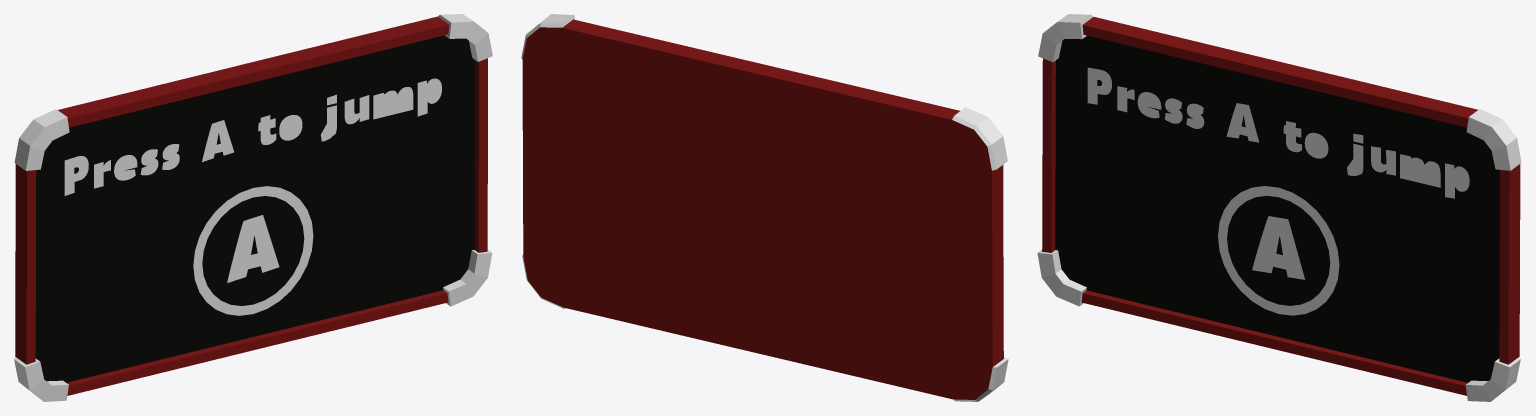
The model's file is Tuto1-XB.FBX.
3 renders of one model, left to right at view 1: azimuth 30°, elevation 25°; view 2: azimuth 150°, elevation 25°; view 3: azimuth 330°, elevation 25°, orthographic.
Visible parts, largest first — view 1: Pizarra 2, Text019, Shape013, Text020; view 2: Pizarra 2; view 3: Pizarra 2, Text019, Shape013, Text020.
Part boxes in pixels (left/top/right/bottom): Pizarra 2: left=14, top=14, right=492, bottom=401; Text019: left=64, top=78, right=441, bottom=195; Shape013: left=193, top=186, right=313, bottom=315; Text020: left=227, top=215, right=279, bottom=282; Pizarra 2: left=521, top=14, right=1008, bottom=401; Pizarra 2: left=1037, top=14, right=1521, bottom=401; Text019: left=1087, top=67, right=1469, bottom=198; Shape013: left=1218, top=186, right=1339, bottom=315; Text020: left=1252, top=216, right=1304, bottom=279.
Bounding box in the file's own units: 77.68 × 44.99 × 4.52.
